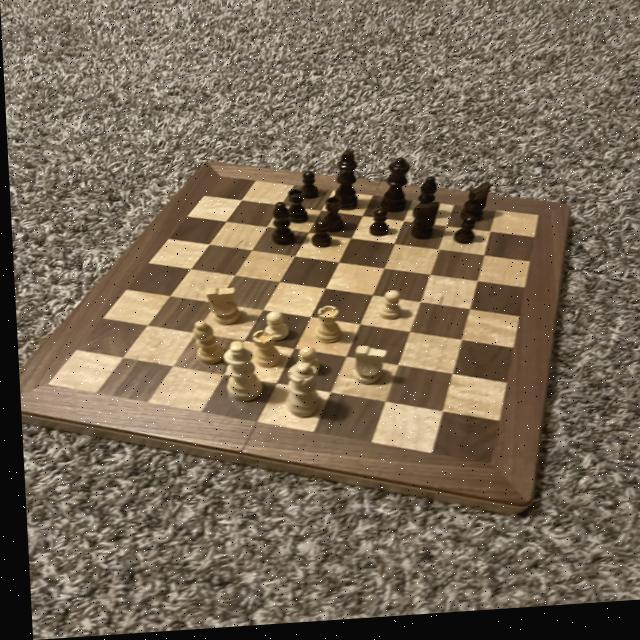bishop: (266, 203, 296, 252), (409, 180, 441, 222)
black-bishop: (329, 154, 360, 217)
black-king: (454, 187, 491, 228), (407, 207, 439, 246)
black-knight: (363, 212, 389, 245), (307, 220, 331, 255), (449, 222, 476, 253), (295, 174, 319, 204)
black-pawn: (376, 162, 410, 220)
black-queen: (281, 190, 309, 230), (318, 200, 346, 239)
black-rook: (186, 320, 224, 369)
white-bishop: (215, 341, 259, 409)
white-king: (341, 348, 387, 393), (199, 288, 242, 331)
white-knight: (289, 349, 321, 385), (256, 313, 288, 346), (371, 293, 401, 328)
white-pawn: (277, 363, 320, 425)
white-queen: (245, 330, 278, 373), (307, 309, 341, 350)
